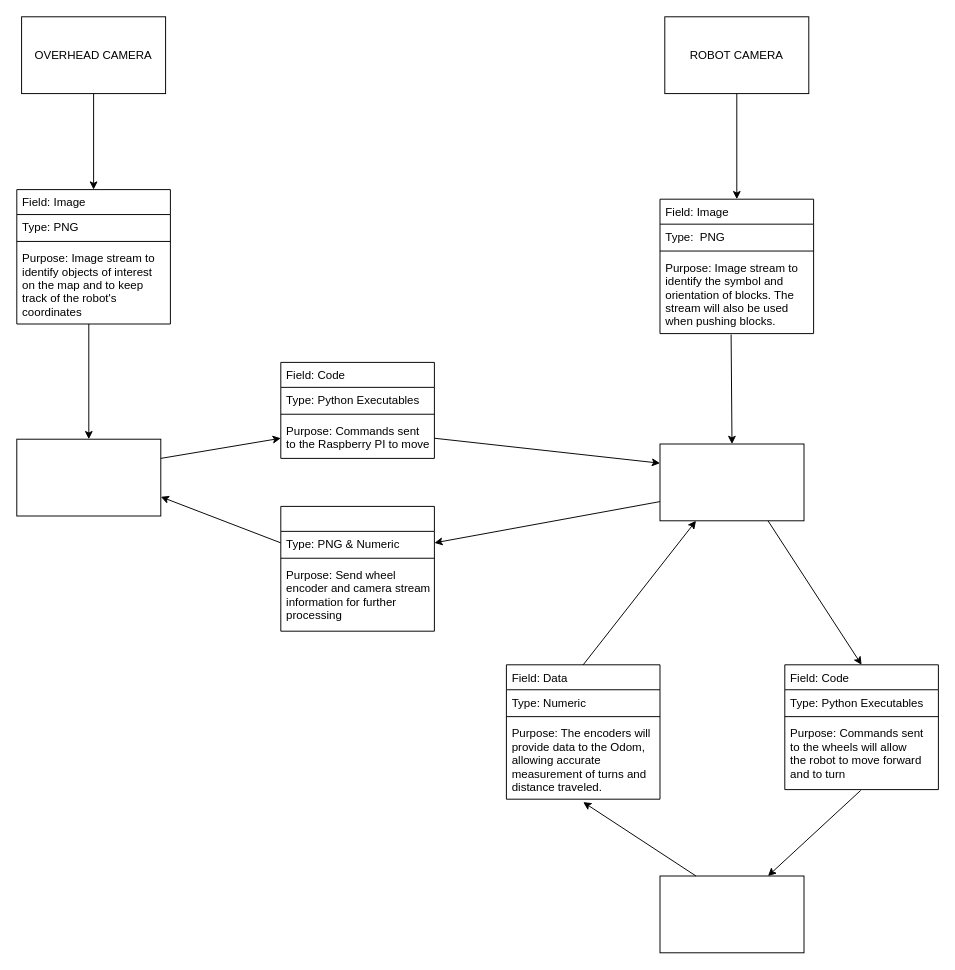
Image size: 955x970. Some labels were removed from this diagram. The box of each missing label's shape, as (x1, y1, x2, y2) in pixels:
Field: Images and Data: (280, 505, 434, 631)
LAPTOP: (16, 438, 161, 516)
RASPBERRY PI: (659, 443, 804, 521)
WHEEL ENCODERS: (659, 875, 804, 953)
